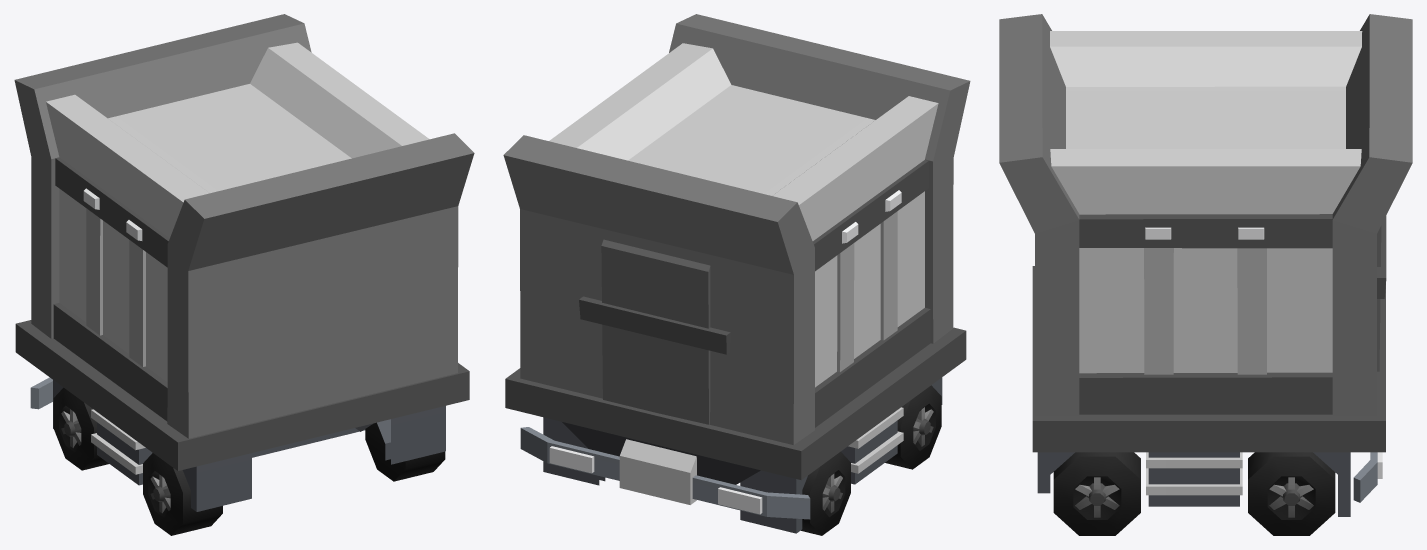
The model's file is cargo_01_B_2.fbx.
3 views of the same model, side by side, from view 1: azimuth 30°, elevation 25°; view 2: azimuth 150°, elevation 25°; view 3: azimuth 270°, elevation 25° (orthographic). The views are drawn at different scales.
Visible parts, largest first — view 1: cargo_01_B_2; view 2: cargo_01_B_2; view 3: cargo_01_B_2.
Part boxes in pixels (x1=…): cargo_01_B_2: x1=14, y1=14, x2=474, y2=535; cargo_01_B_2: x1=503, y1=14, x2=970, y2=535; cargo_01_B_2: x1=999, y1=14, x2=1412, y2=535.
Bounding box in the file's own units: 13.93 × 15.97 × 15.71.
